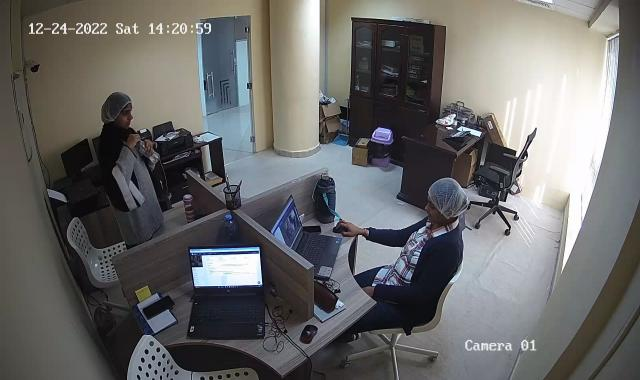hairnet: (426, 178, 469, 225), (101, 92, 133, 130)
